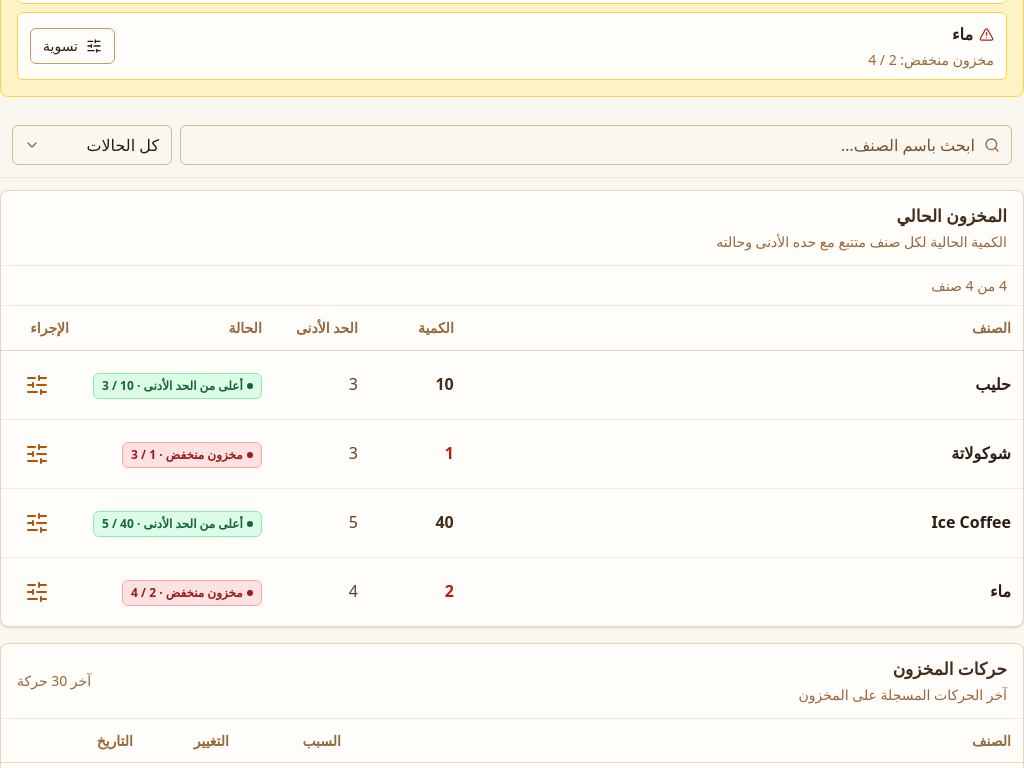
Test: InventoryPage — the adjustment › opens the shared dialog naming the item it acts on
(page scrolled)
Expected: the text "حليب" is shown, [975,373,1011,395]
Click the button named "تسوية مخزون حليب" at (37, 384), box [13,360,61,408]
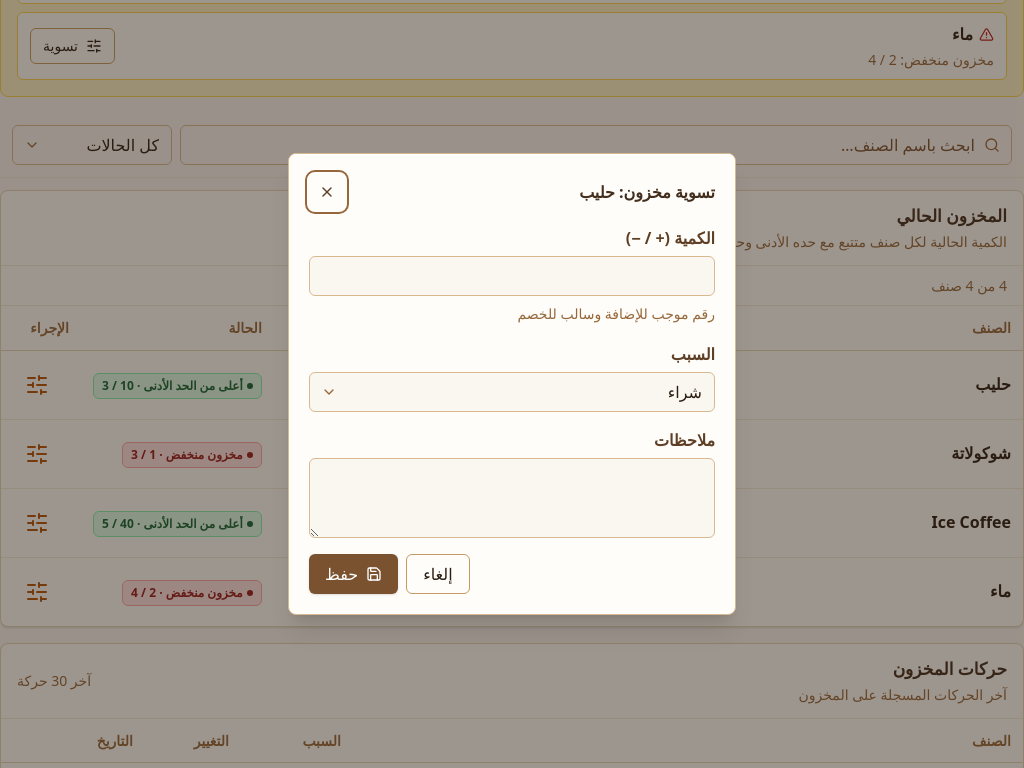
Expected: the dialog is shown, [288,154,736,615]
Expected: the heading "تسوية مخزون: حليب" is shown, [579,180,715,204]
